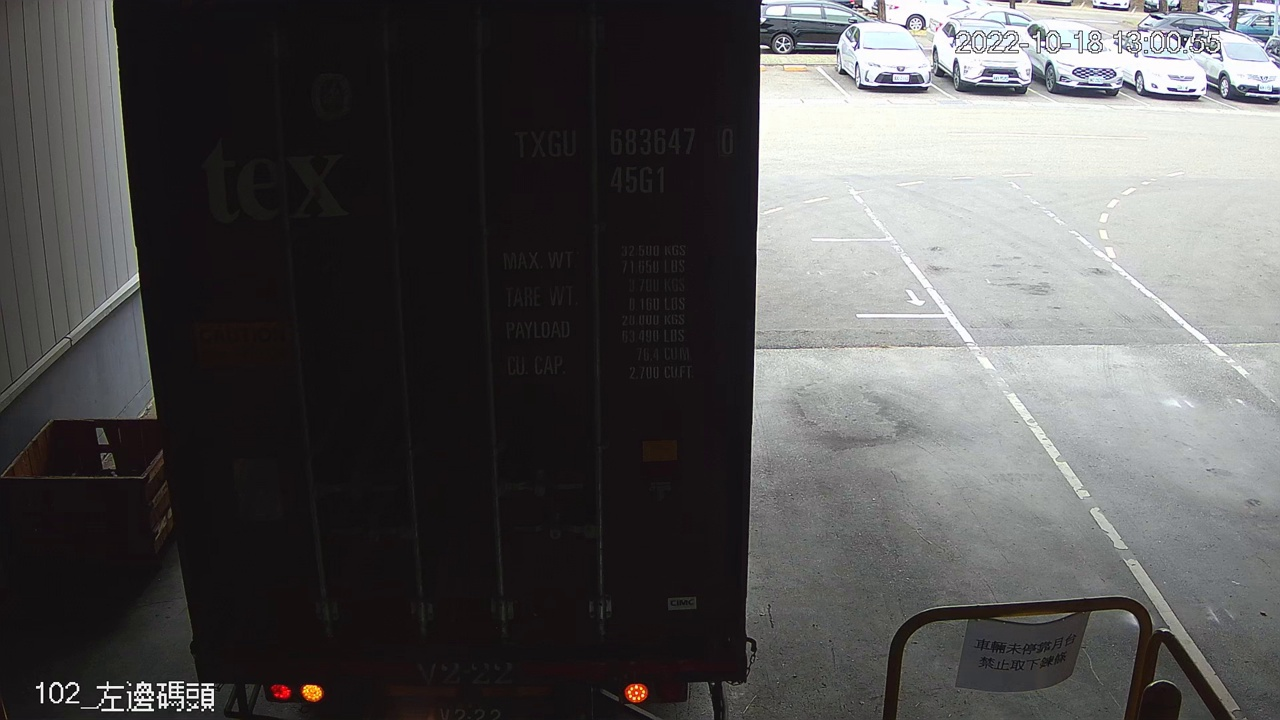container: (503, 118, 741, 198)
